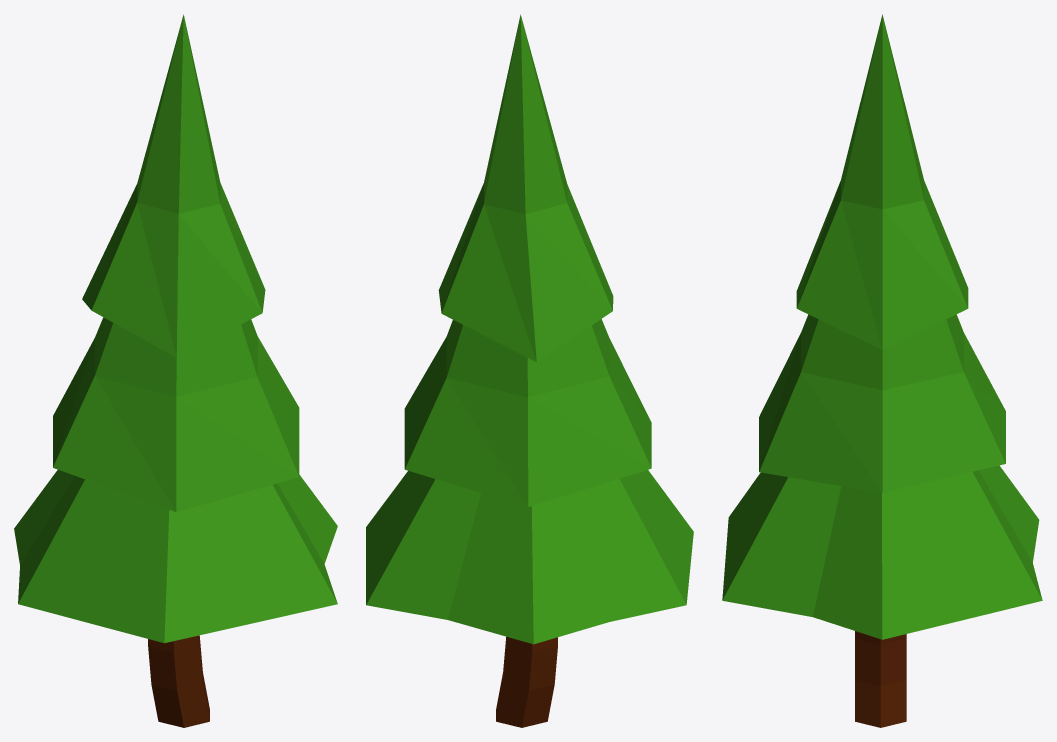
Rendered from tree_pine_02.FBX.
The picture shows the model from 3 angles, left to right: view 1: azimuth 30°, elevation 25°; view 2: azimuth 150°, elevation 25°; view 3: azimuth 270°, elevation 25°; orthographic projection.
Visible parts, largest first — view 1: tree_pine_02; view 2: tree_pine_02; view 3: tree_pine_02.
Boxes of the visible parts, x1,y1,x2,y2 form: tree_pine_02: (14, 14, 337, 727); tree_pine_02: (366, 14, 693, 727); tree_pine_02: (722, 14, 1042, 727).
Bounding box in the file's own units: 123 × 257 × 107.
